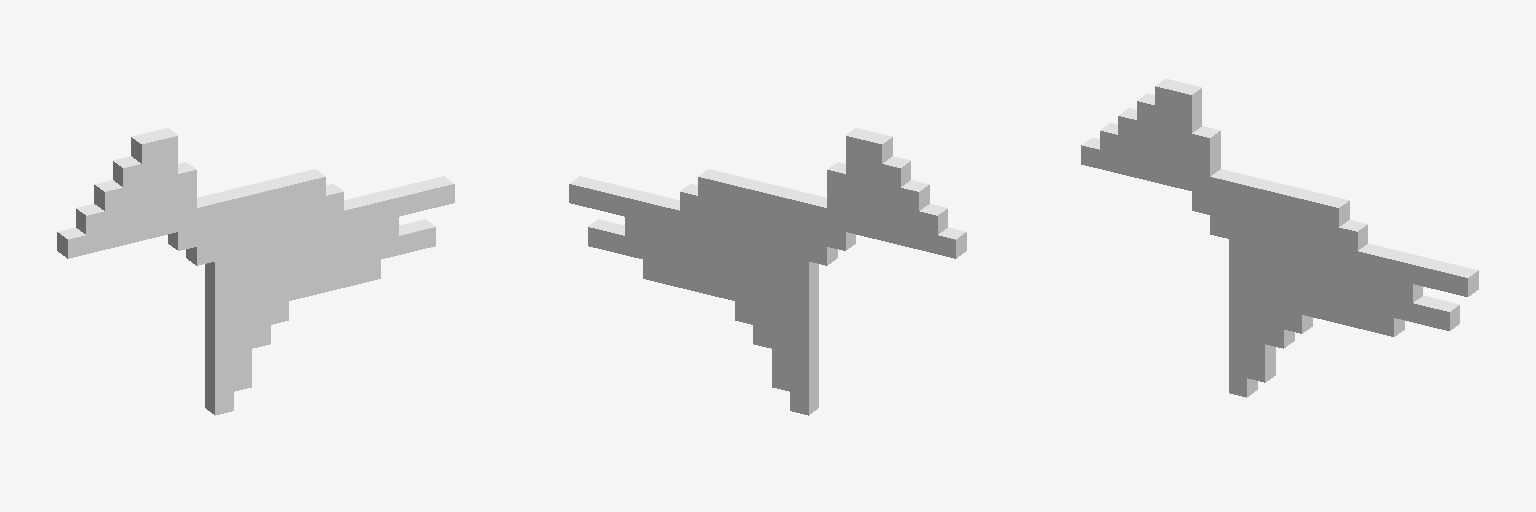
Rendered from pterodactylus.obj.
3 renders of one model, left to right at view 1: azimuth 30°, elevation 25°; view 2: azimuth 150°, elevation 25°; view 3: azimuth 330°, elevation 25°, orthographic.
Bounding box in the file's own units: 21 × 15 × 1.